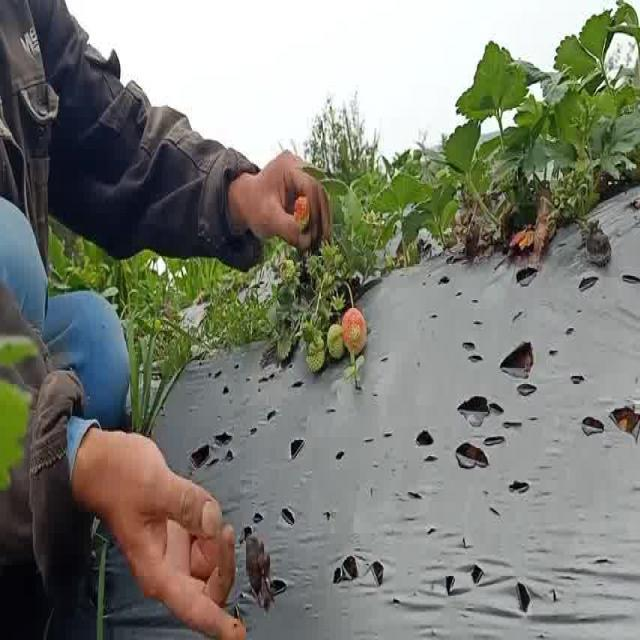Fruta sana: (341, 306, 370, 358)
Mancha negra Antracnosis: (584, 215, 616, 270)
